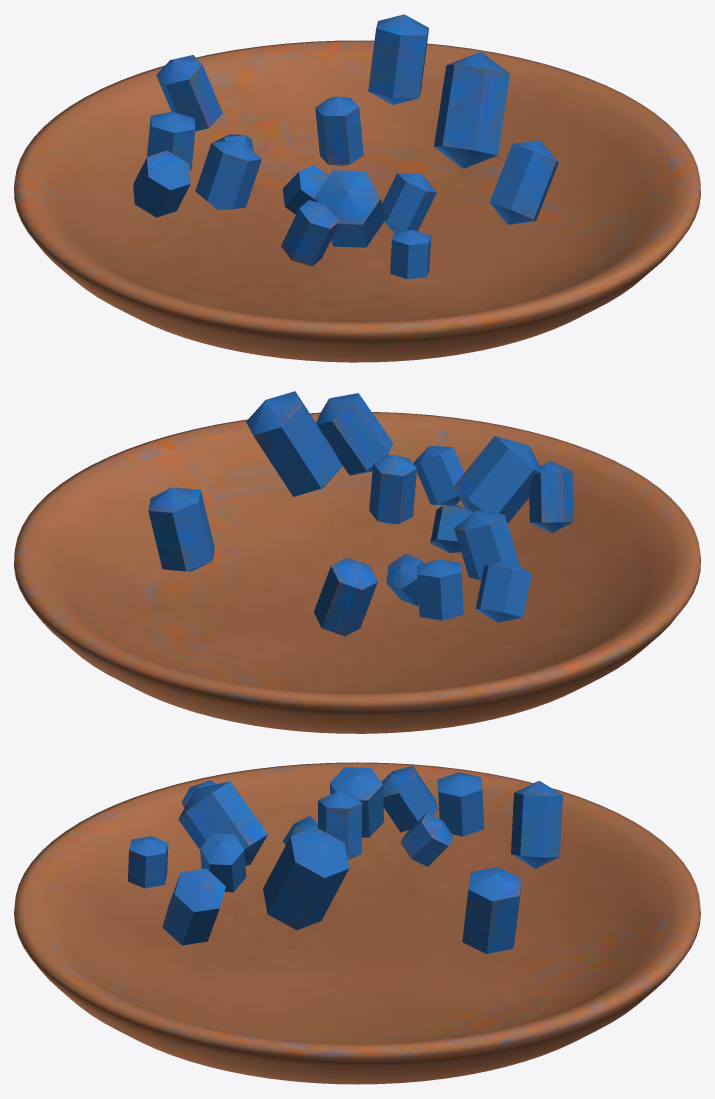
File: blue_vitriol.glb
The picture shows the model from 3 angles, top to bottom: view 1: azimuth 30°, elevation 25°; view 2: azimuth 150°, elevation 25°; view 3: azimuth 270°, elevation 25°; orthographic projection.
Parts seen in each view (by area): view 1: blue_vitriol; view 2: blue_vitriol; view 3: blue_vitriol.
Part boxes in pixels (x1=…): blue_vitriol: x1=14, y1=14, x2=700, y2=362; blue_vitriol: x1=14, y1=391, x2=700, y2=733; blue_vitriol: x1=14, y1=762, x2=700, y2=1084.
Size of the model in its own units: 0.0901 by 0.031 by 0.0901.
1 material, 1 textured.
